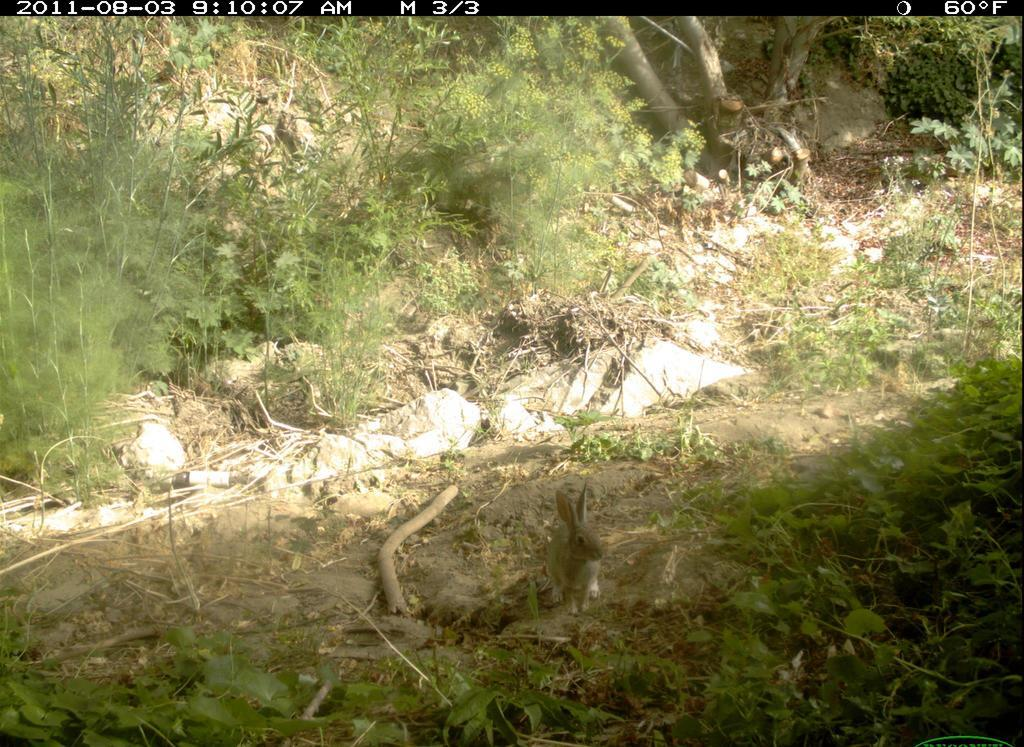rabbit: (534, 477, 609, 619)
